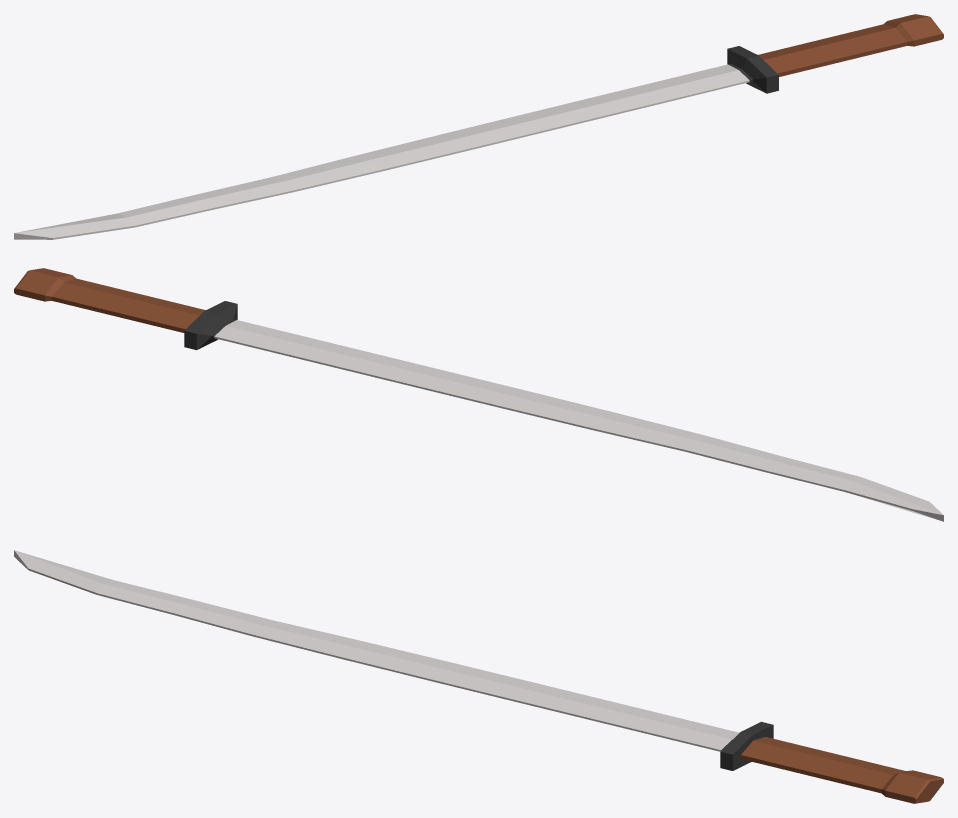
File: sword_w.fbx
The picture shows the model from 3 angles, top to bottom: view 1: azimuth 30°, elevation 25°; view 2: azimuth 150°, elevation 25°; view 3: azimuth 330°, elevation 25°; orthographic projection. The views are drawn at different scales.
Parts seen in each view (by area): view 1: Plane.005; view 2: Plane.005; view 3: Plane.005.
Part boxes in pixels (x1,y1,x2,y2): Plane.005: [14, 14, 943, 239]; Plane.005: [14, 268, 943, 521]; Plane.005: [14, 550, 943, 803].
Bounding box in the file's own units: 118 × 3.19 × 8.98.
